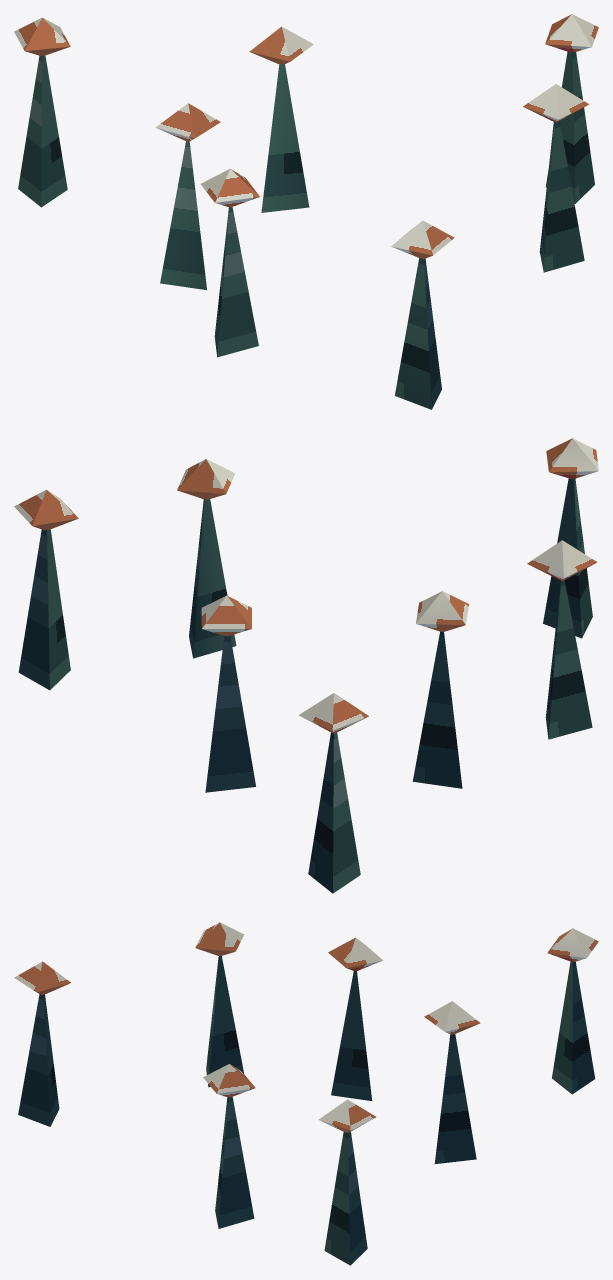
File: mnat.flowers.glb
The picture shows the model from 3 angles, top to bottom: view 1: azimuth 30°, elevation 25°; view 2: azimuth 150°, elevation 25°; view 3: azimuth 270°, elevation 25°; orthographic projection. The views are drawn at different scales.
Visible parts, largest first — view 1: kit_plants, kit_heads; view 2: kit_plants, kit_heads; view 3: kit_plants, kit_heads.
Boxes of the visible parts, x1,y1,x2,y2 form: kit_plants: (18,51,594,409); kit_heads: (14,14,598,258); kit_plants: (18,478,592,893); kit_heads: (14,438,598,733); kit_plants: (18,956,595,1265); kit_heads: (14,922,598,1132).
Size of the model in its own units: 1.13 by 0.41 by 1.4.
Materials: 2 (2 with a texture image).
